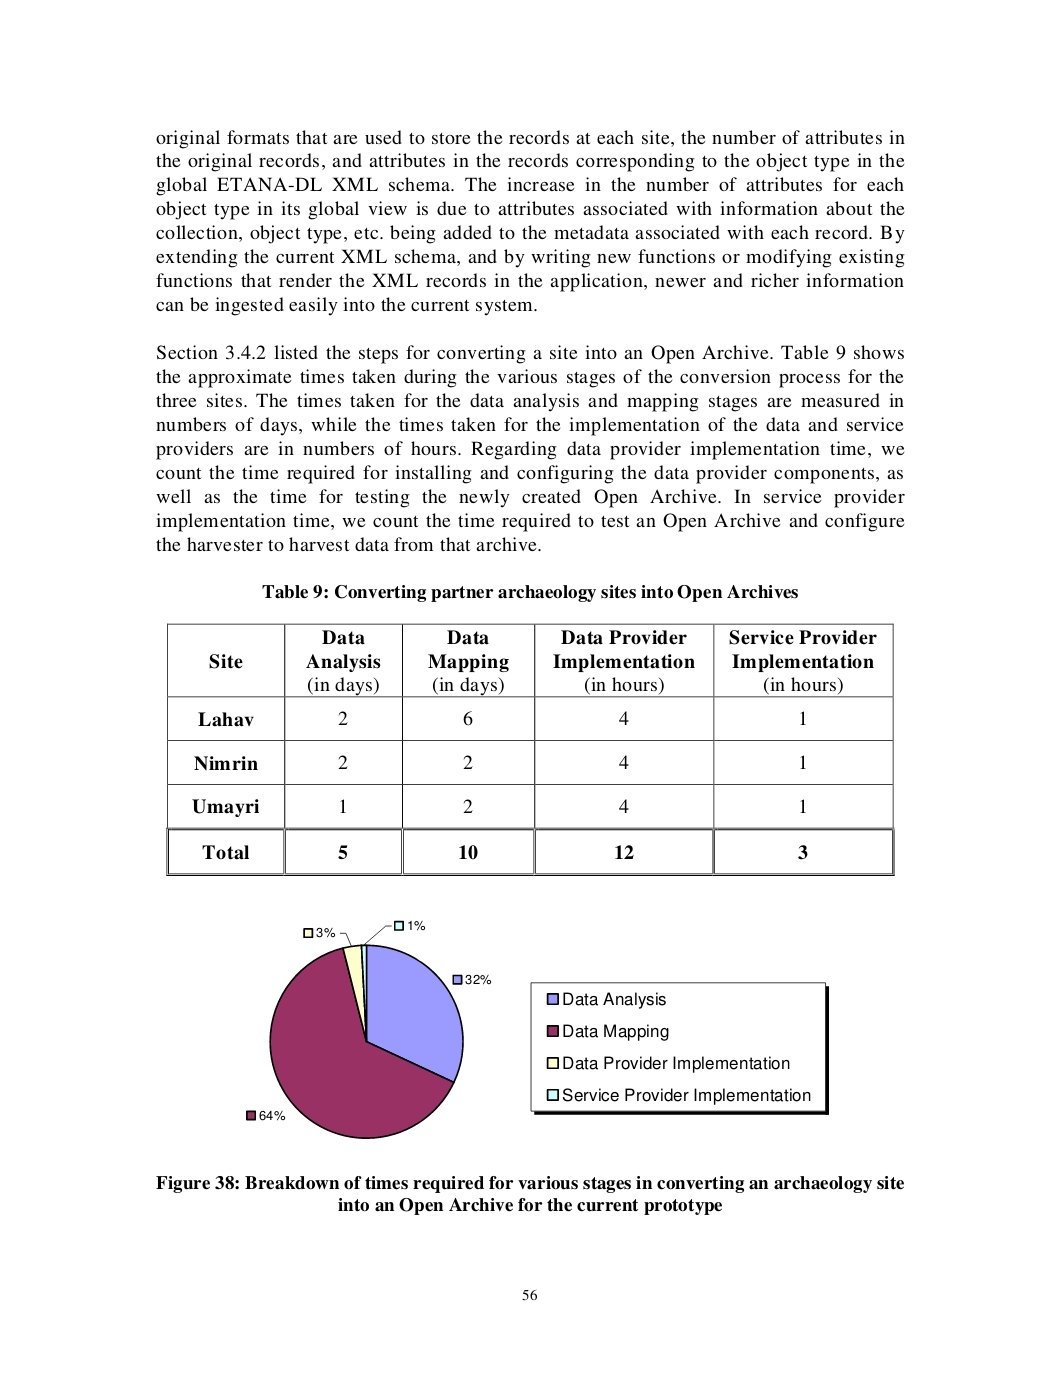Table: (166, 622, 894, 876)
figure: (246, 919, 491, 1139), (530, 981, 828, 1114)
